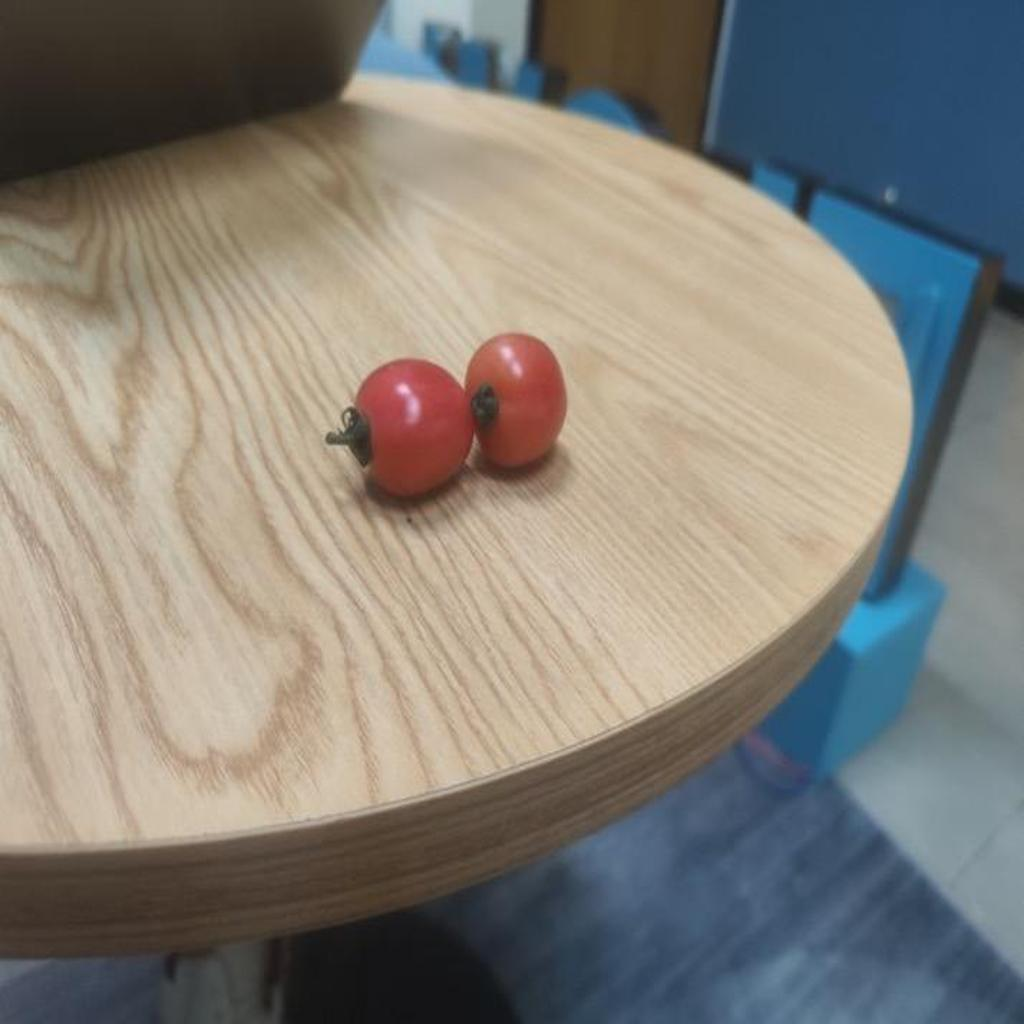tomato: (341, 359, 473, 500), (457, 330, 579, 474)
